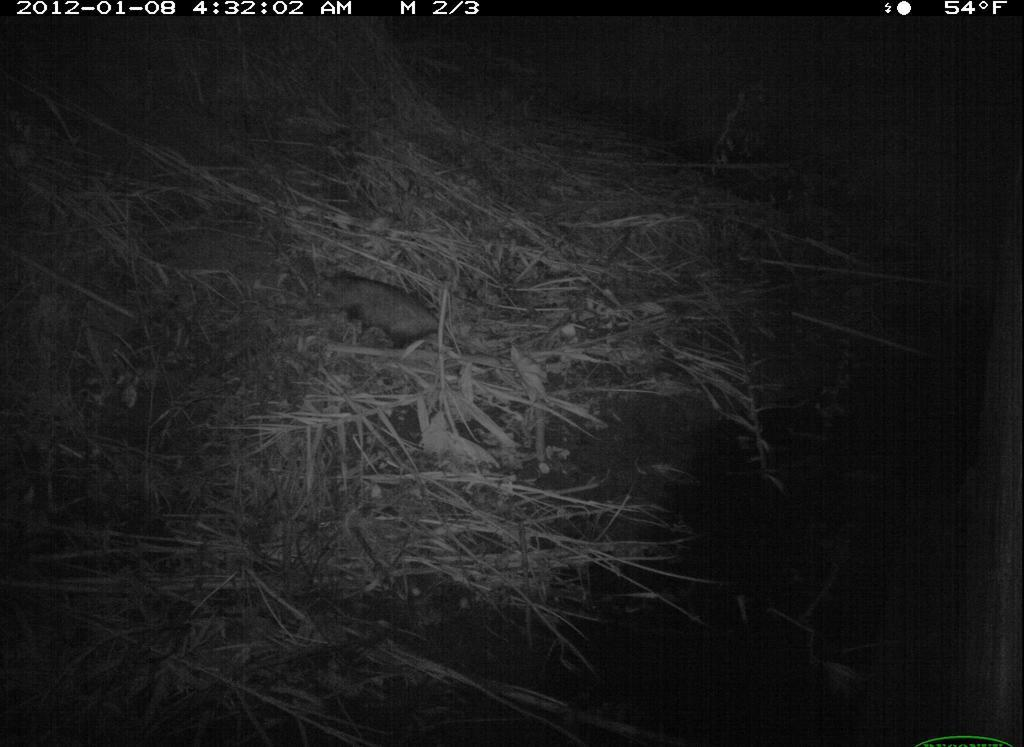opossum: (310, 262, 461, 360)
